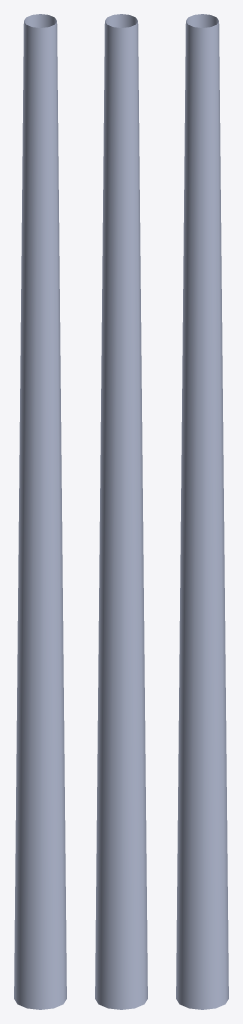
Rendered from windpowergenerator_white_2001_01.obj.
The picture shows the model from 3 angles, left to right: view 1: azimuth 30°, elevation 25°; view 2: azimuth 150°, elevation 25°; view 3: azimuth 330°, elevation 25°; orthographic projection.
Visible parts, largest first — view 1: polySurface162; view 2: polySurface162; view 3: polySurface162.
Boxes of the visible parts, bbox=[...] form: polySurface162: bbox=[14, 14, 66, 1009]; polySurface162: bbox=[95, 14, 147, 1009]; polySurface162: bbox=[176, 14, 228, 1009].
Size of the model in its own units: 443 by 9038 by 443.
1 material, 1 textured.
